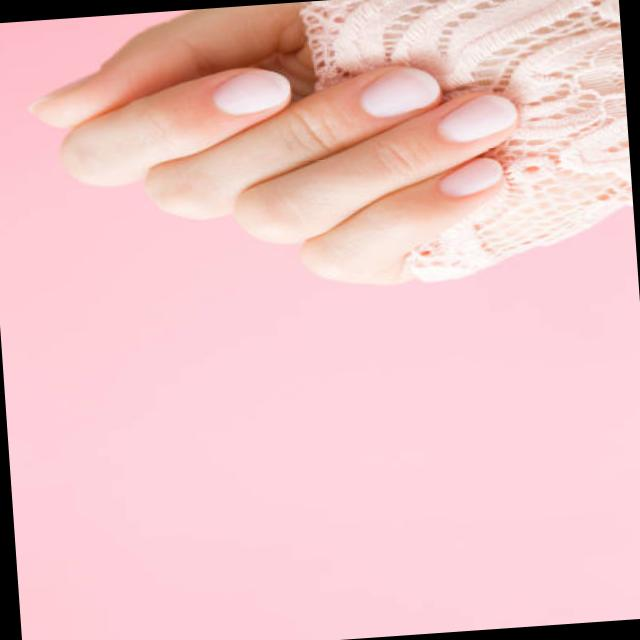Nail: (359, 66, 440, 117), (438, 93, 517, 141), (213, 67, 290, 113), (439, 157, 502, 195)
